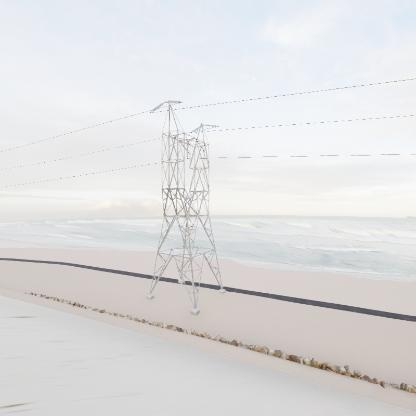tower: (144, 98, 228, 318)
